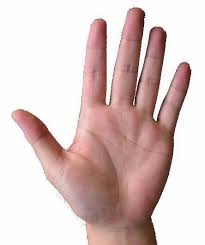palm: (7, 6, 194, 233)
